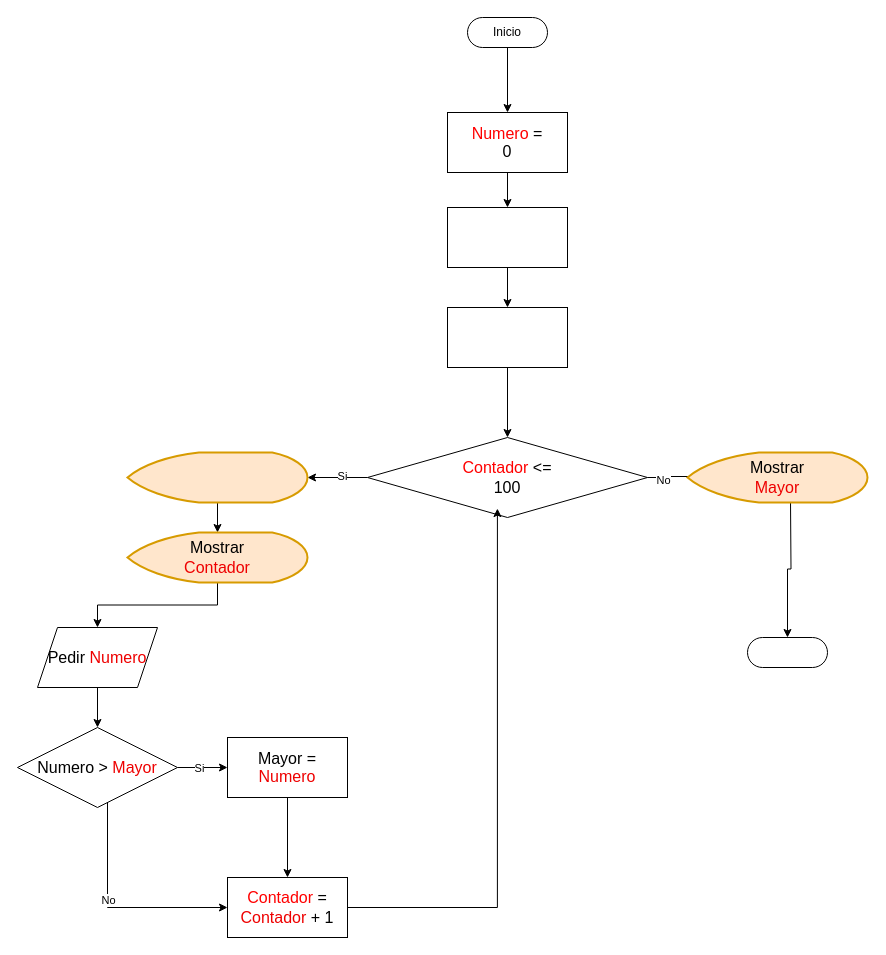
The diagram is 886 pixels wide and 955 high, and some of its shapes have lost their labels. The shapes that lost their labels are listed below. From the top down, each one's centre as x and y in pixels, then its label:
the point at 507,237: Contador = 1
the point at 507,337: Mayor = 0
the point at 217,477: Mostrar “Ingrese su numero”
the point at 787,652: Fin
